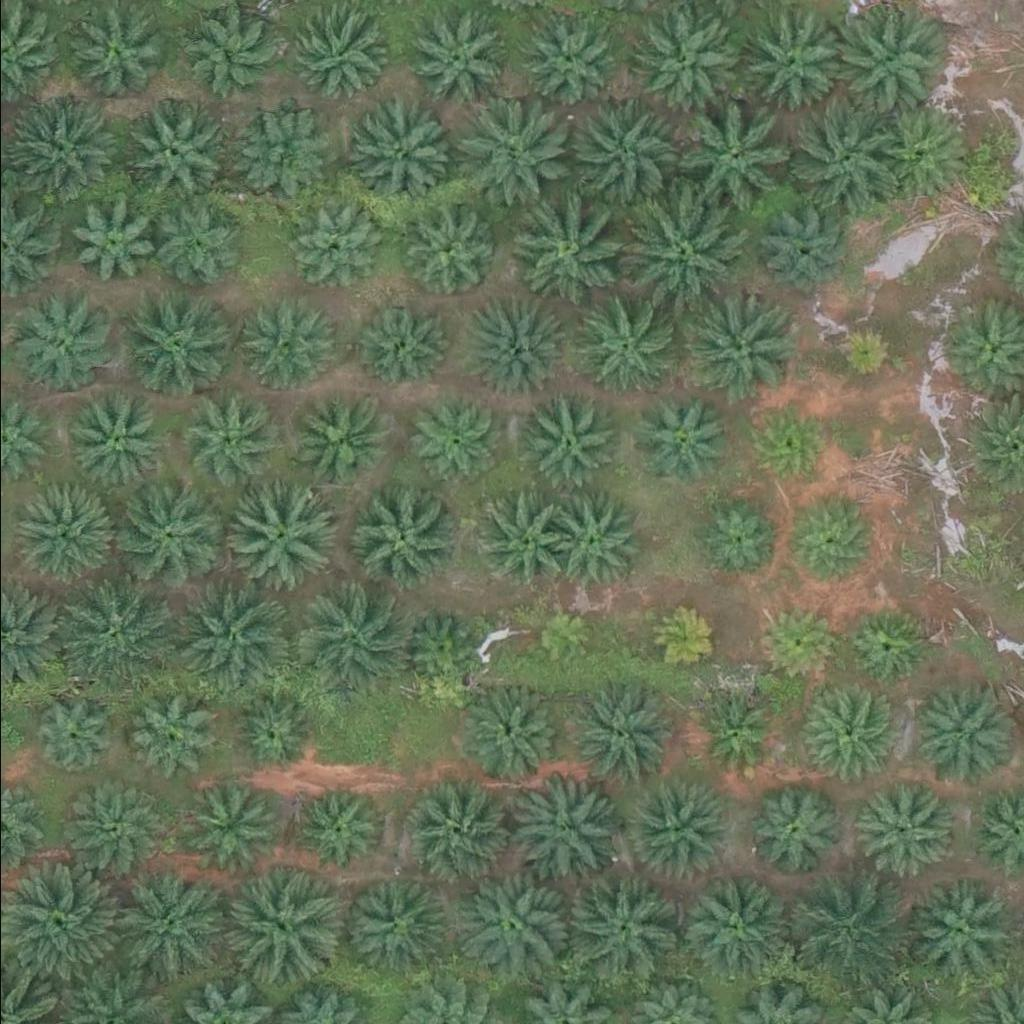Kelapa_Sawit: (450, 871, 564, 984), (566, 678, 680, 791), (173, 585, 287, 698), (345, 482, 459, 595), (569, 874, 682, 987), (232, 871, 345, 984), (501, 776, 614, 889), (218, 475, 331, 588), (566, 97, 679, 210), (905, 872, 1018, 985), (782, 873, 895, 986), (619, 194, 732, 307), (670, 100, 783, 213), (827, 5, 940, 118), (448, 96, 562, 208), (111, 870, 224, 982), (295, 588, 408, 700), (55, 576, 168, 688), (111, 478, 224, 590), (510, 190, 623, 302), (683, 291, 796, 403), (787, 106, 900, 218), (637, 8, 750, 120), (343, 877, 444, 977), (626, 777, 727, 877), (403, 790, 504, 890), (462, 691, 563, 791), (542, 491, 643, 591), (629, 385, 730, 485), (513, 392, 614, 492), (289, 392, 390, 492), (172, 394, 273, 494), (61, 390, 162, 490), (573, 298, 674, 398), (240, 295, 341, 395), (121, 294, 222, 394), (12, 291, 113, 391), (400, 203, 501, 303), (345, 103, 446, 203), (116, 107, 217, 207), (403, 8, 504, 108), (183, 5, 284, 105), (858, 783, 959, 883), (735, 776, 836, 876), (906, 681, 1007, 781), (798, 680, 899, 780), (869, 105, 970, 205), (735, 13, 836, 113), (15, 488, 115, 588), (459, 294, 559, 394), (234, 99, 334, 199), (685, 881, 785, 981), (403, 395, 492, 483), (70, 785, 158, 873), (119, 694, 207, 782), (25, 690, 113, 778), (390, 608, 478, 696), (475, 500, 563, 588), (360, 300, 448, 388), (787, 499, 875, 587), (695, 499, 783, 587), (755, 597, 843, 685), (844, 605, 932, 693), (762, 212, 850, 300), (288, 786, 377, 873), (174, 790, 262, 877), (222, 689, 310, 776), (292, 201, 380, 288), (151, 201, 239, 288), (63, 198, 151, 285), (521, 20, 609, 107), (68, 9, 156, 96), (745, 400, 833, 487), (695, 690, 783, 777), (645, 602, 721, 677), (829, 317, 892, 380), (529, 607, 592, 669)
